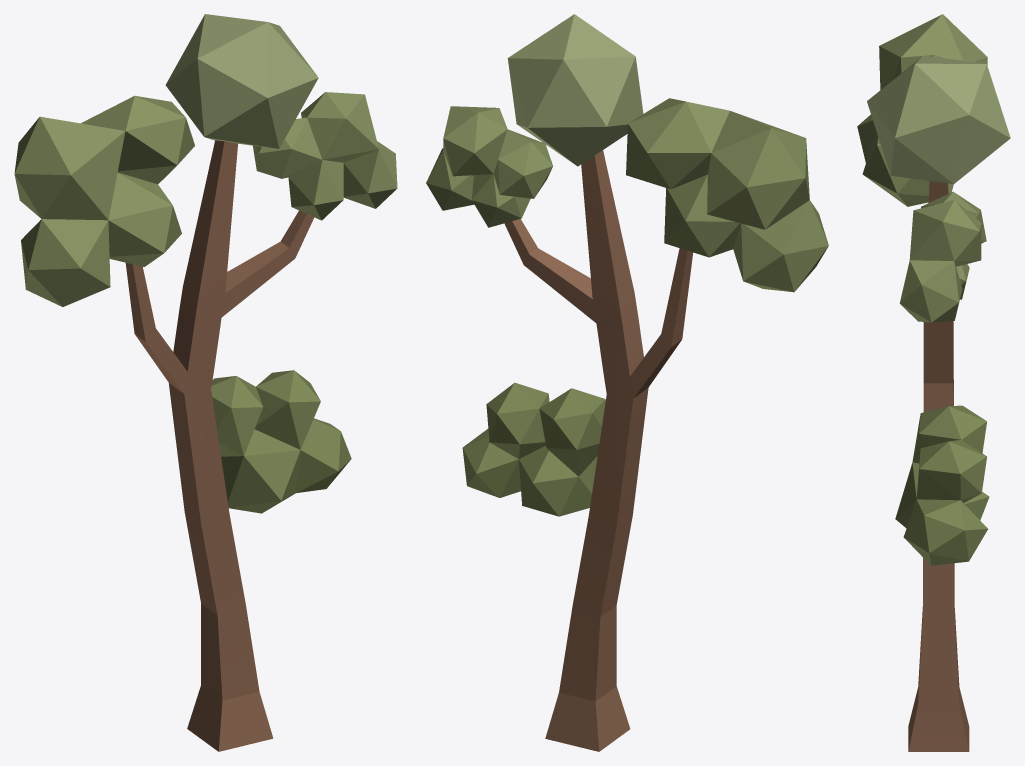
Rendered from deciduous_tree_10.fbx.
3 views of the same model, side by side, from view 1: azimuth 30°, elevation 25°; view 2: azimuth 150°, elevation 25°; view 3: azimuth 270°, elevation 25° (orthographic). The views are drawn at different scales.
Parts seen in each view (by area): view 1: deciduous_tree_10; view 2: deciduous_tree_10; view 3: deciduous_tree_10.
Boxes of the visible parts, bbox=[...] form: deciduous_tree_10: bbox=[14, 14, 397, 751]; deciduous_tree_10: bbox=[426, 14, 828, 751]; deciduous_tree_10: bbox=[857, 14, 1010, 751].
Size of the model in its own units: 366 by 653 by 132.
